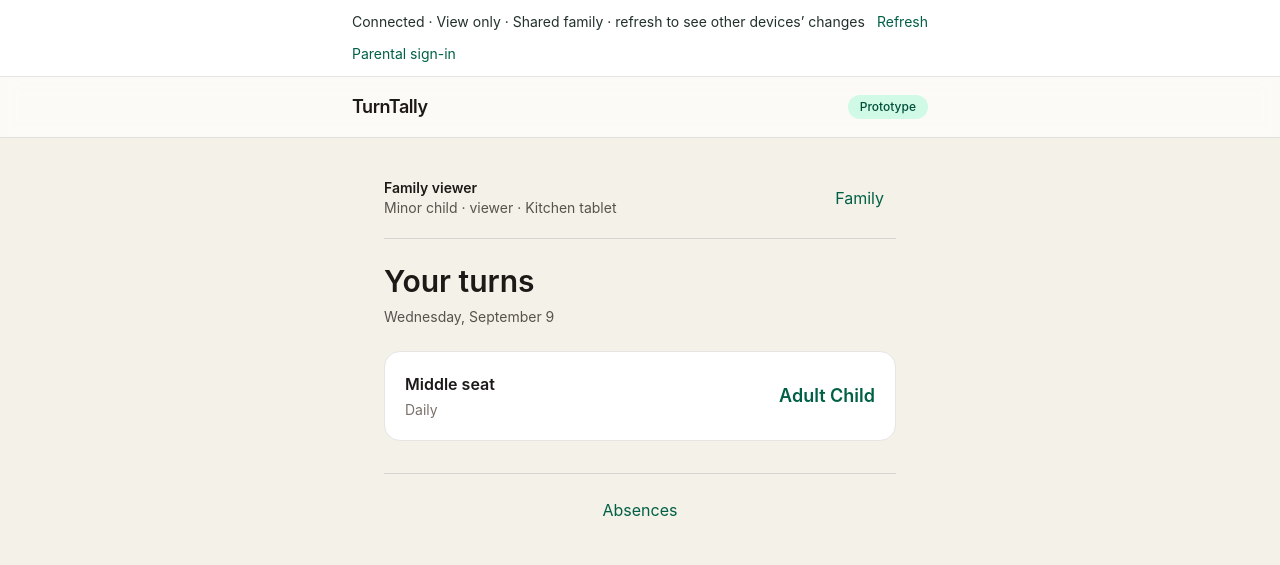
Scenario: hosted sign-in › requires server disconnection before parental sign-in and keeps viewer mode if it fails
Expected: the heading "Your turns" is shown, [384, 263, 554, 299]
Click the button "Parental sign-in": (404, 54) [352, 44, 456, 64]
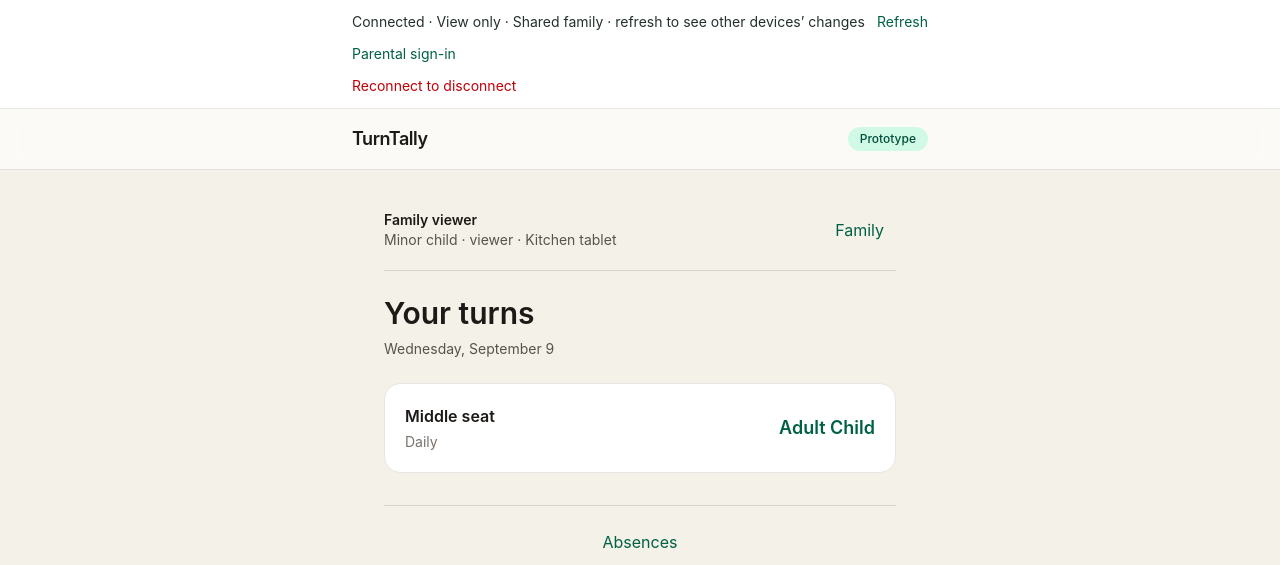
Expected: the field labelled "Password" is not shown
Expected: the message "Reconnect to disconnect" is shown, [352, 77, 516, 94]
Click the button "Parental sign-in": (404, 54) [352, 44, 456, 64]
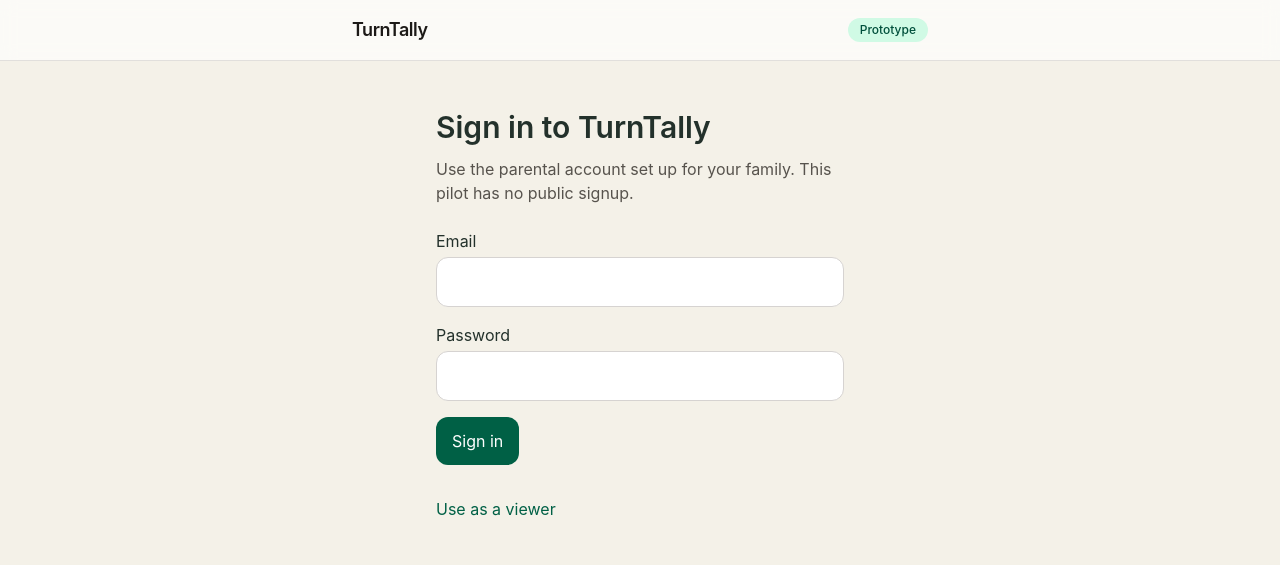
Expected: the password field labelled "Password" is shown, [436, 351, 844, 401]
